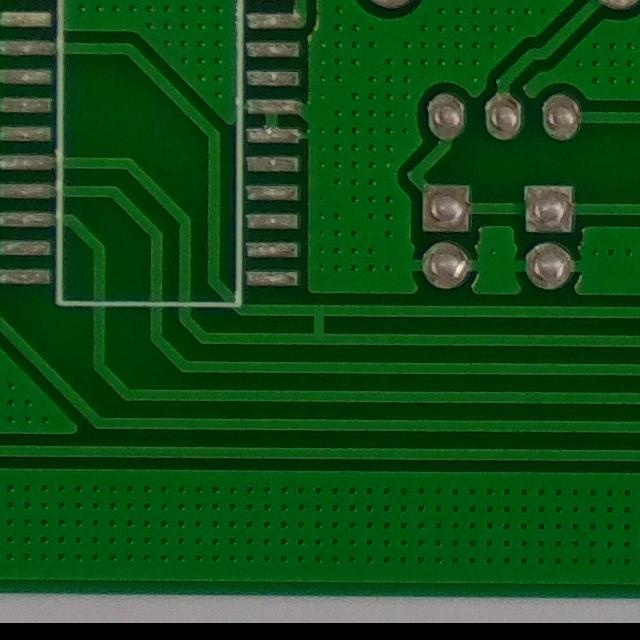short: (291, 288, 350, 352)
